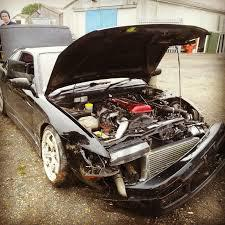fender-dent: (37, 104, 86, 152)
front-bumper-dent: (125, 152, 210, 199)
